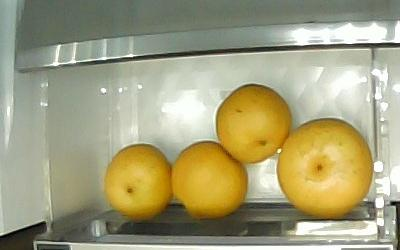pear: (276, 116, 374, 218), (169, 139, 248, 220), (214, 82, 292, 164), (102, 142, 173, 221)
